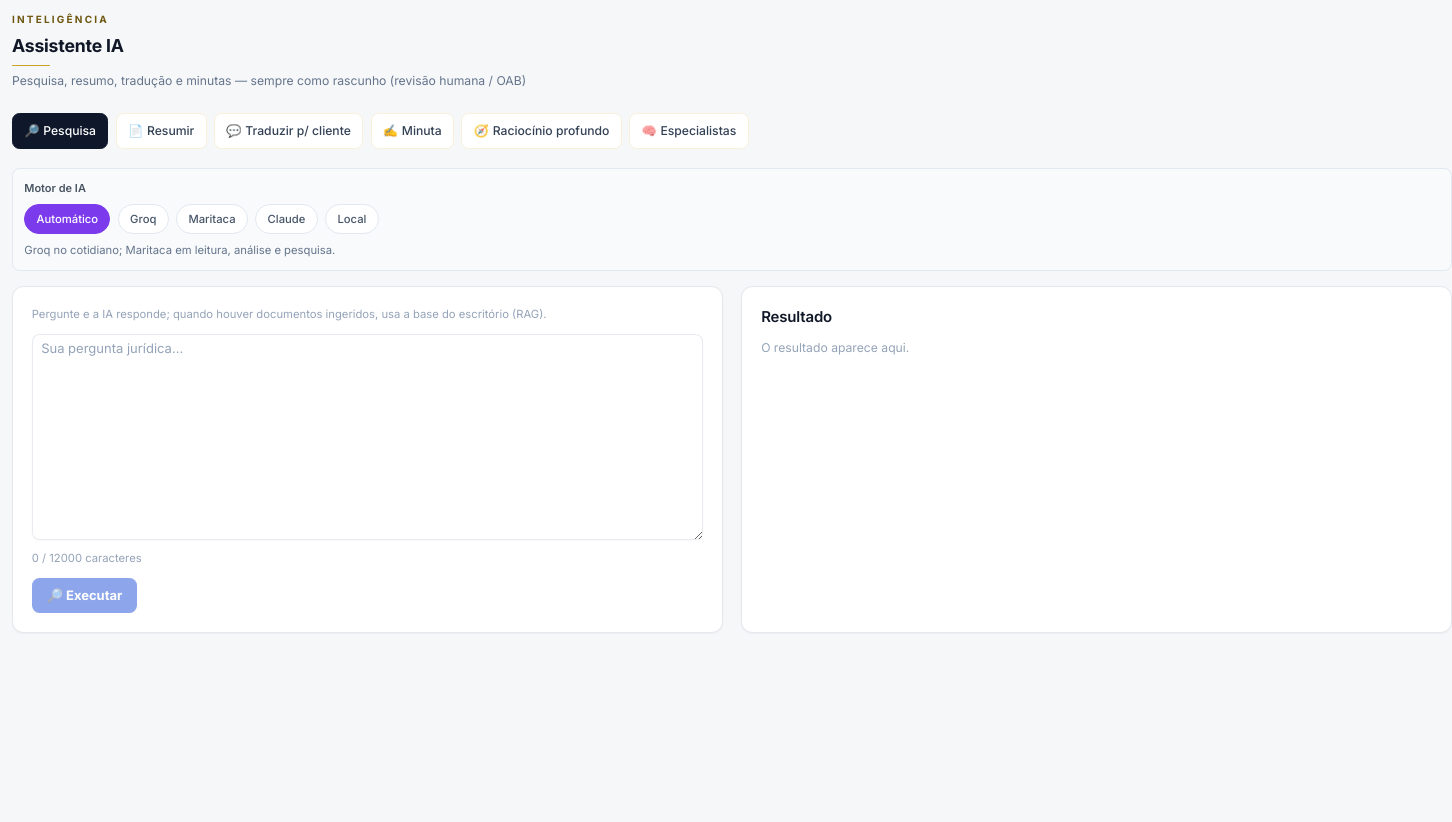
Test: AssistenteIA — HITL e fontes visíveis › ainda entende o contrato antigo (resposta/fontes/aviso)
Type "Pergunta qualquer." into the text box with placeholder "Sua pergunta jurídica…" at (367, 437), box [32,334,703,540]
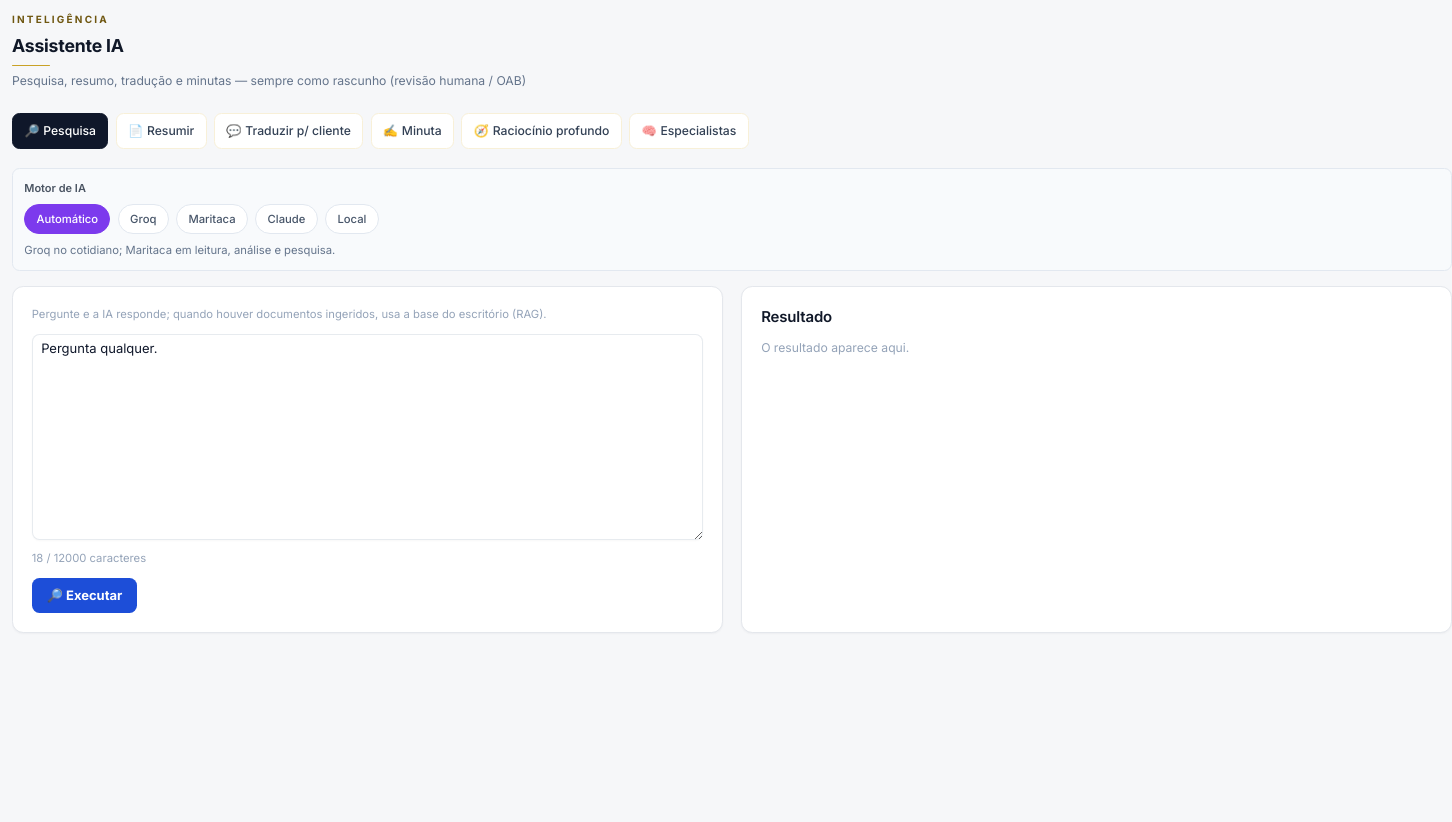
Click the button "🔎 Executar" at (85, 596), box [32,578,137,613]
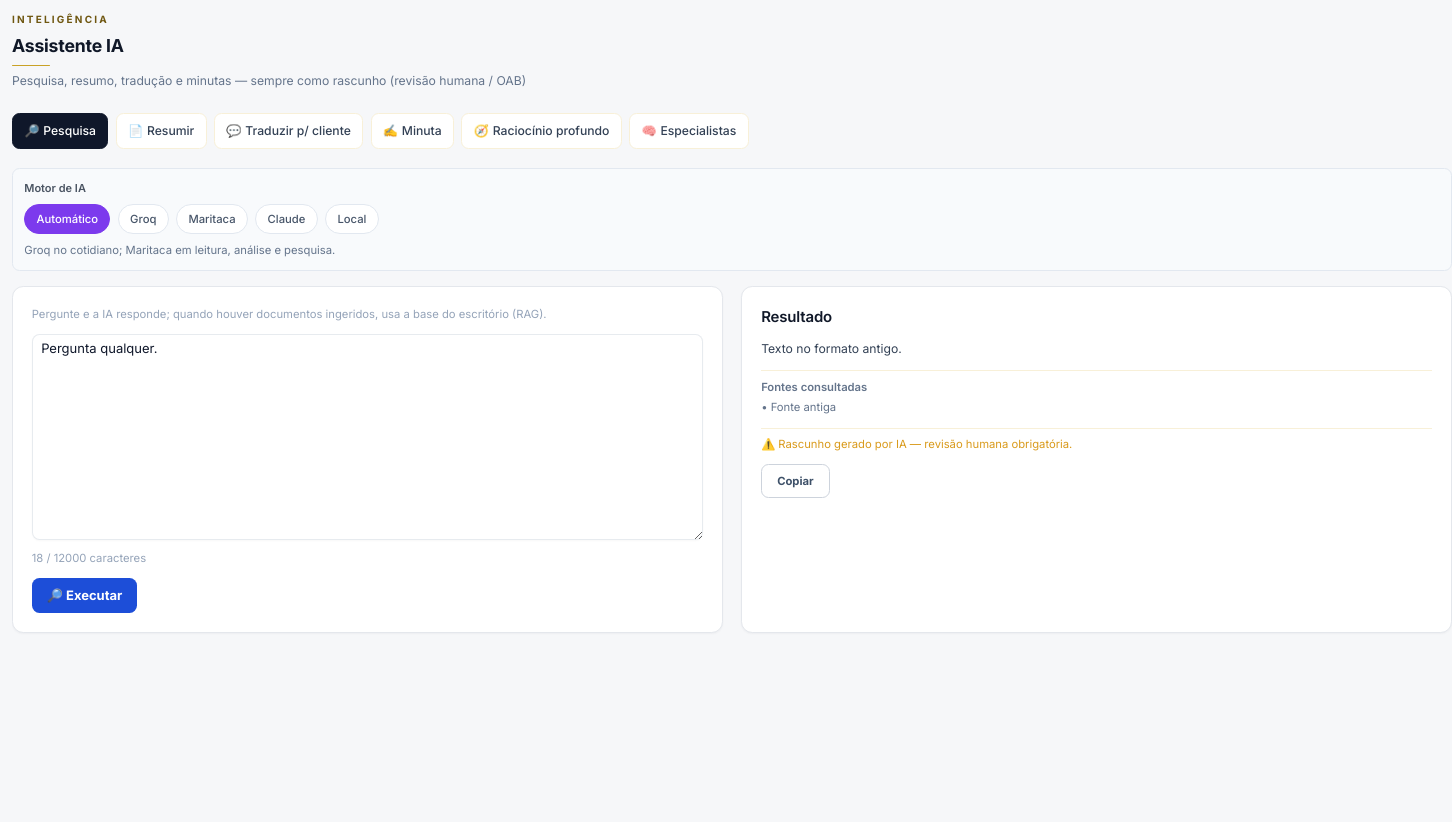
Expected: the text with test id "aviso-hitl" shows "revisão humana", [761,437,1072,451]
Expected: the element with test id "fontes-rag" shows "Fonte antiga", [771,400,836,414]
